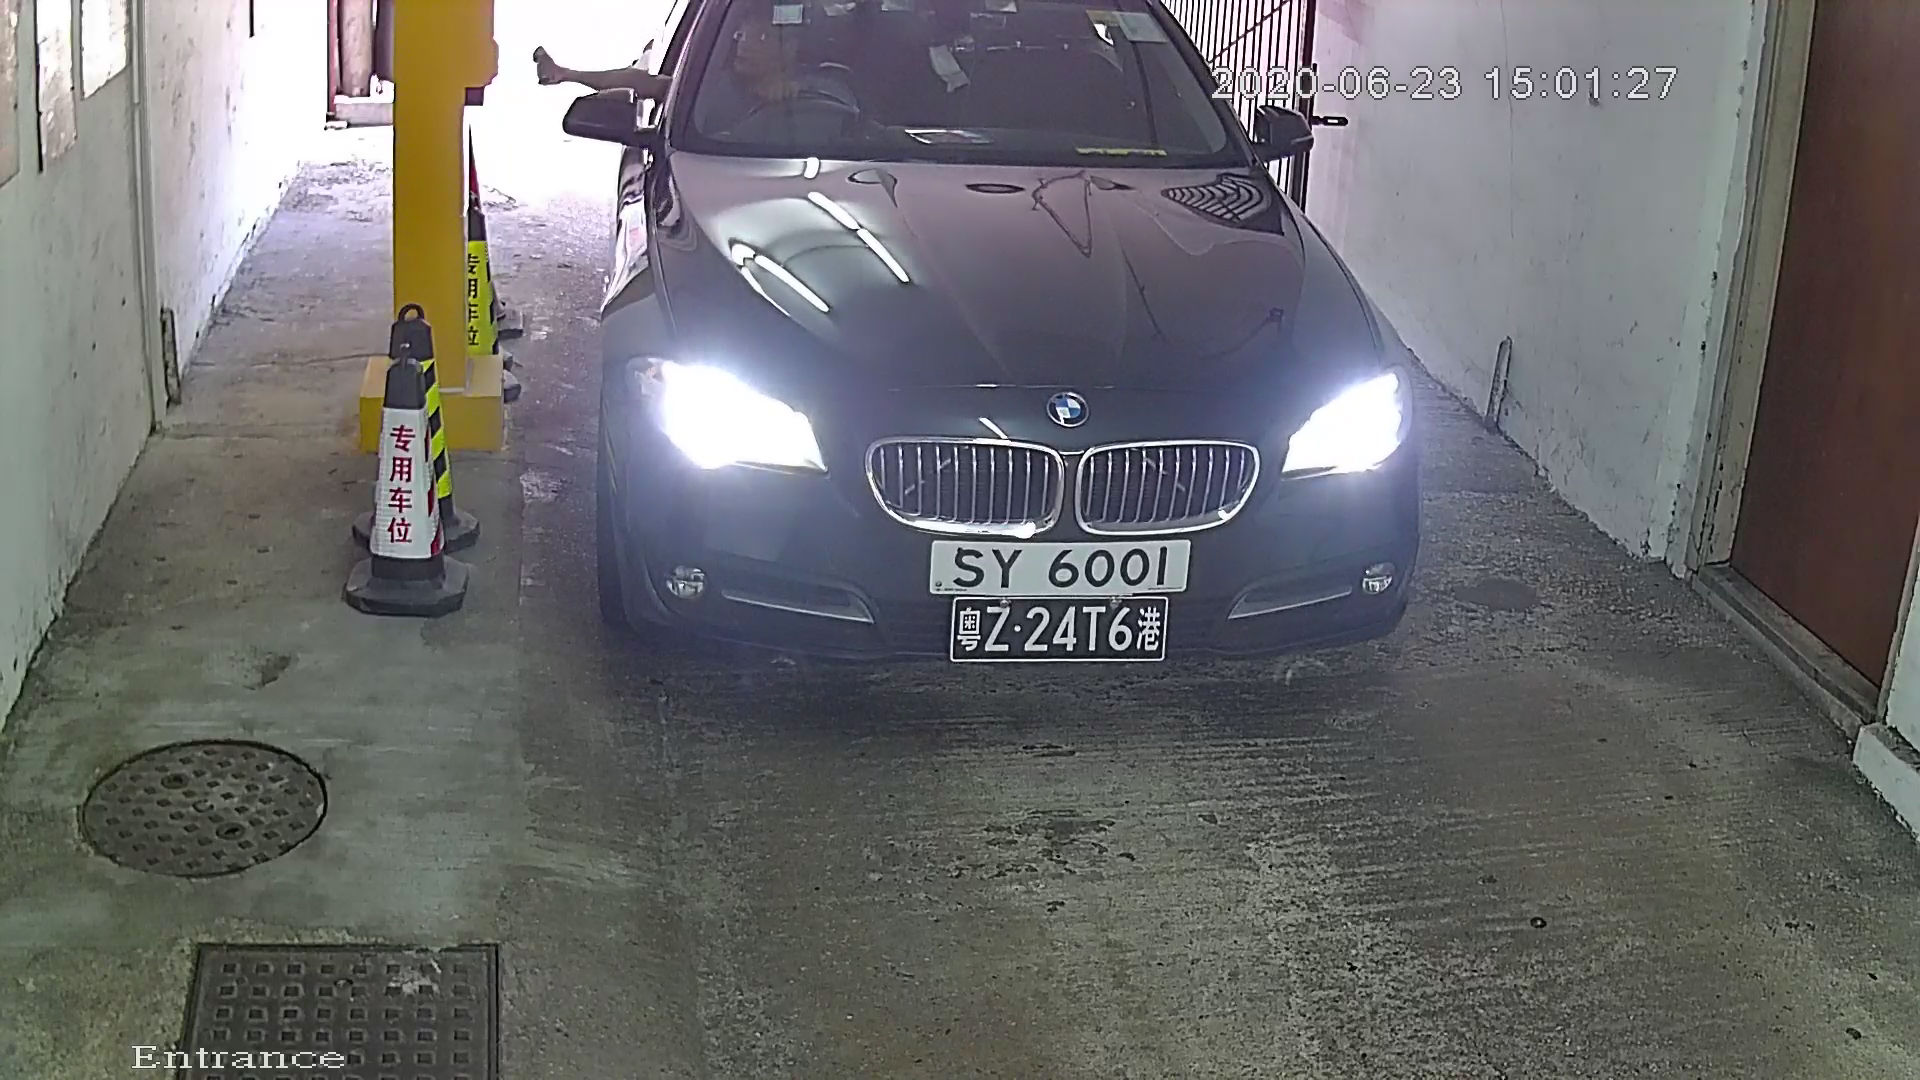privatecar: (559, 3, 1447, 740)
